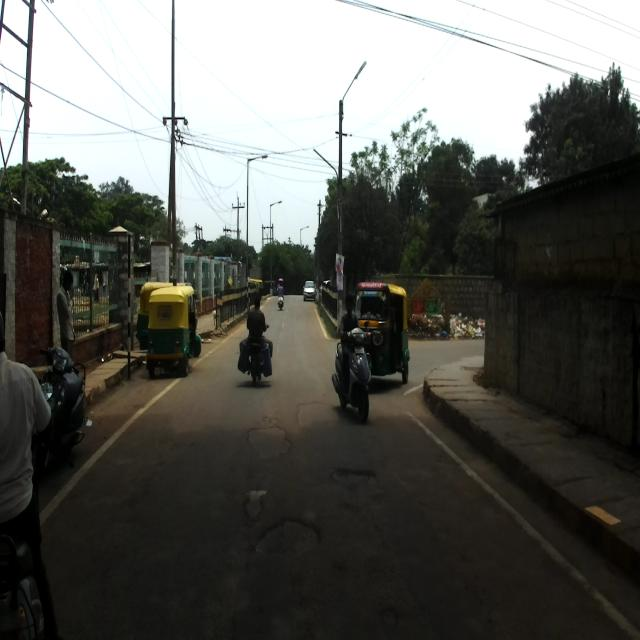auto ahead at: (142, 281, 196, 377)
motorcycle ahead at: (40, 346, 94, 461), (330, 325, 376, 423)
